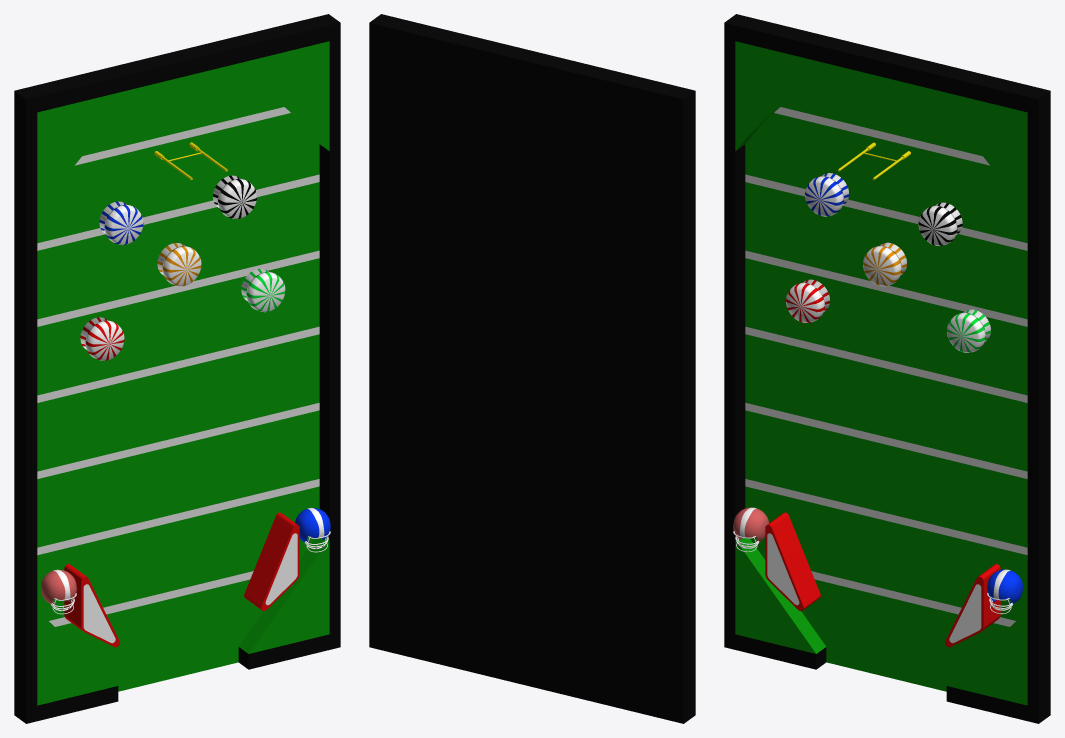
Rendered from fixed_machine.fbx.
3 views of the same model, side by side, from view 1: azimuth 30°, elevation 25°; view 2: azimuth 150°, elevation 25°; view 3: azimuth 330°, elevation 25° (orthographic).
Visible parts, largest first — view 1: pCube1, pCube4, pCube15, pCube12, pCube11, pCylinder6, pCylinder10, pCylinder7, pCylinder8, pCylinder9, pCube13, pCube14; view 2: pCube1; view 3: pCube1, pCube4, pCube15, pCube11, pCube12, pCylinder7, pCylinder8, pCylinder9, pCylinder10, pCylinder6, pCube14, pCube13.
Boxes of the visible parts, x1=… form: pCube1: x1=14, y1=14, x2=340, y2=723; pCube4: x1=37, y1=41, x2=329, y2=222; pCube15: x1=64, y1=512, x2=299, y2=647; pCube12: x1=238, y1=538, x2=329, y2=653; pCube11: x1=37, y1=611, x2=117, y2=705; pCylinder6: x1=80, y1=317, x2=124, y2=360; pCylinder10: x1=241, y1=268, x2=285, y2=312; pCylinder7: x1=99, y1=201, x2=143, y2=244; pCylinder8: x1=157, y1=243, x2=201, y2=286; pCylinder9: x1=213, y1=175, x2=256, y2=218; pCube13: x1=41, y1=569, x2=76, y2=614; pCube14: x1=295, y1=507, x2=330, y2=552; pCube1: x1=369, y1=14, x2=695, y2=723; pCube1: x1=724, y1=14, x2=1050, y2=723; pCube4: x1=735, y1=41, x2=1027, y2=222; pCube15: x1=765, y1=512, x2=1000, y2=647; pCube11: x1=735, y1=538, x2=826, y2=653; pCube12: x1=947, y1=611, x2=1027, y2=705; pCylinder7: x1=805, y1=173, x2=848, y2=216; pCylinder8: x1=863, y1=242, x2=906, y2=286; pCylinder9: x1=918, y1=202, x2=962, y2=245; pCylinder10: x1=947, y1=309, x2=990, y2=352; pCylinder6: x1=786, y1=279, x2=829, y2=322; pCube14: x1=987, y1=569, x2=1023, y2=614; pCube13: x1=733, y1=507, x2=769, y2=552.
Size of the model in its own units: 219 by 416 by 45.4.
